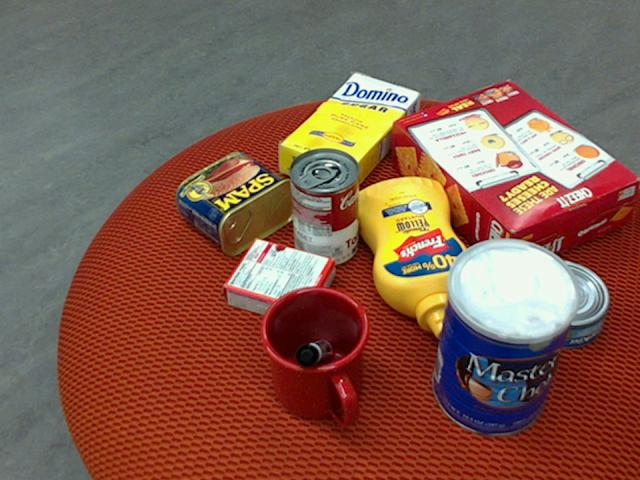cracker_box: (390, 79, 638, 274)
gelatin_box: (218, 237, 330, 330)
large_marker: (292, 340, 330, 368)
master_chef_can: (430, 240, 580, 438)
mug: (255, 286, 367, 427)
mustard_bottle: (353, 176, 472, 341)
potted_meat_can: (174, 150, 297, 255)
sugar_box: (276, 72, 419, 195)
tomato_soup_can: (287, 145, 358, 266)
tuna_fish_can: (512, 259, 609, 349)
